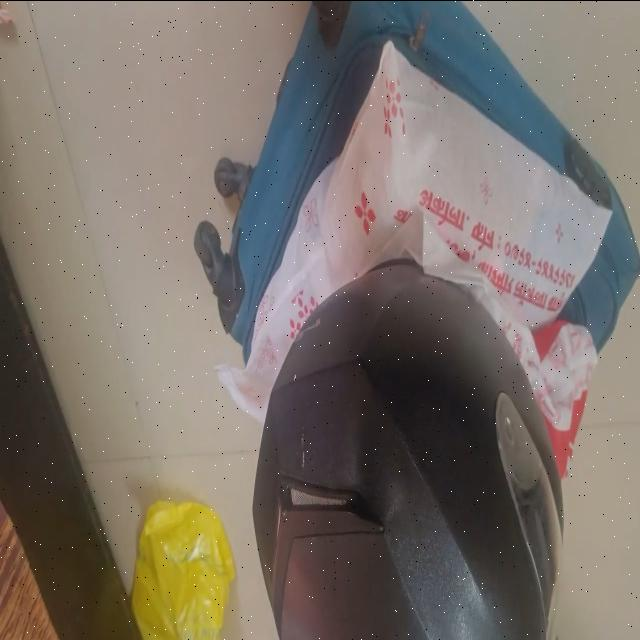Helmet: (252, 266, 560, 640)
